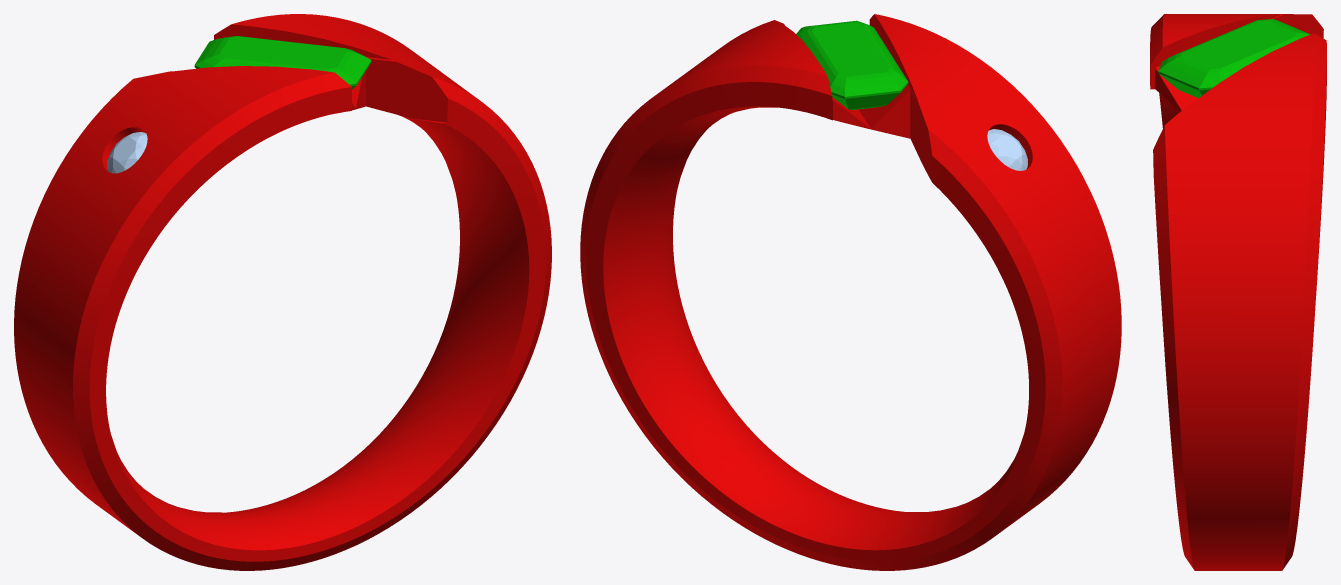
3 views of the same model, side by side, from view 1: azimuth 30°, elevation 25°; view 2: azimuth 150°, elevation 25°; view 3: azimuth 270°, elevation 25° (orthographic).
Visible parts, largest first — view 1: propuesta con bicel.3dm, GG_Emerald, GG_Round; view 2: propuesta con bicel.3dm, GG_Emerald, GG_Round; view 3: propuesta con bicel.3dm, GG_Emerald.
Boxes of the visible parts, x1=… form: propuesta con bicel.3dm: x1=14, y1=14, x2=551, y2=570; GG_Emerald: x1=194, y1=36, x2=371, y2=88; GG_Round: x1=107, y1=132, x2=147, y2=173; propuesta con bicel.3dm: x1=580, y1=14, x2=1121, y2=570; GG_Emerald: x1=796, y1=20, x2=908, y2=109; GG_Round: x1=987, y1=129, x2=1027, y2=170; propuesta con bicel.3dm: x1=1150, y1=14, x2=1326, y2=570; GG_Emerald: x1=1158, y1=19, x2=1310, y2=98.
Bounding box in the file's own units: 2.76 × 2.76 × 0.8758.
